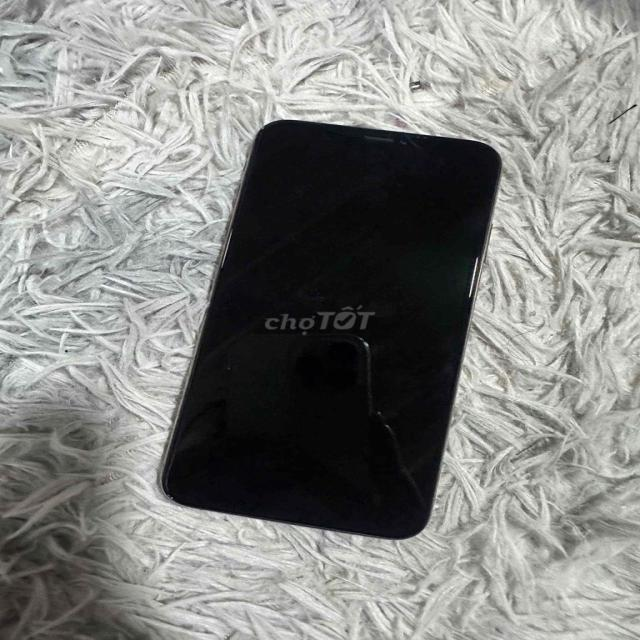gen_x_xs: (161, 121, 500, 538)
